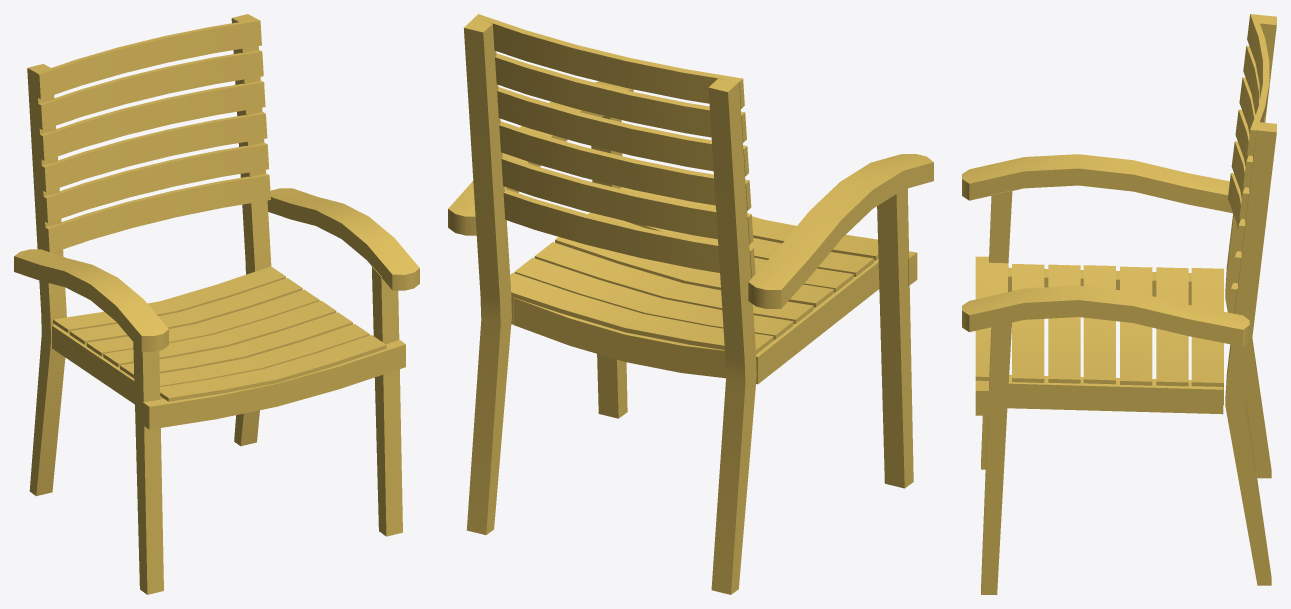
File: chair.fbx
3 renders of one model, left to right at view 1: azimuth 30°, elevation 25°; view 2: azimuth 150°, elevation 25°; view 3: azimuth 270°, elevation 25°, orthographic. The views are drawn at different scales.
Parts seen in each view (by area): view 1: frontleg (×2), arm (×2), backleg (×2), pCube1, pCube12, pCube13, pCube17, pCube14, pCube16, pCube15, pCube5, pCube7 (+6 smaller); view 2: backleg (×2), arm (×2), frontleg (×2), pCube12, pCube15, pCube13, pCube17, pCube14, pCube16, pCube2, pCube11, pCube10 (+6 smaller); view 3: arm (×2), backleg (×2), frontleg (×2), pCube3, pCube7, pCube10, pCube8, pCube9, pCube6, pCube11, pCube5, pCube12 (+7 smaller).
Part boxes in pixels (x1,y1,x2,y2): frontleg (×2): [133, 266, 402, 594]; arm (×2): [14, 188, 419, 351]; backleg (×2): [27, 14, 271, 496]; pCube1: [142, 339, 405, 429]; pCube12: [36, 19, 261, 99]; pCube13: [38, 50, 263, 129]; pCube17: [45, 173, 270, 252]; pCube14: [40, 80, 265, 160]; pCube16: [43, 143, 268, 222]; pCube15: [42, 112, 267, 192]; pCube5: [160, 335, 386, 401]; pCube7: [120, 312, 352, 378]; backleg (×2): [464, 17, 756, 594]; arm (×2): [448, 81, 933, 308]; frontleg (×2): [591, 116, 913, 488]; pCube12: [475, 14, 744, 108]; pCube15: [499, 121, 751, 210]; pCube13: [495, 53, 746, 142]; pCube17: [503, 189, 755, 278]; pCube14: [497, 87, 748, 176]; pCube16: [501, 155, 753, 244]; pCube2: [513, 297, 725, 378]; pCube11: [510, 273, 773, 354]; pCube10: [514, 257, 793, 339]; arm (×2): [962, 154, 1249, 346]; backleg (×2): [1225, 14, 1276, 585]; frontleg (×2): [981, 190, 1012, 594]; pCube3: [1007, 375, 1223, 414]; pCube7: [1048, 264, 1080, 383]; pCube10: [1156, 267, 1188, 386]; pCube8: [1083, 265, 1115, 384]; pCube9: [1120, 266, 1152, 385]; pCube6: [1012, 264, 1044, 382]; pCube11: [1191, 268, 1223, 386]; pCube5: [975, 262, 1007, 380]; pCube12: [1247, 14, 1269, 155].
Bounding box in the file's own units: 5.35 × 7.79 × 4.87.
